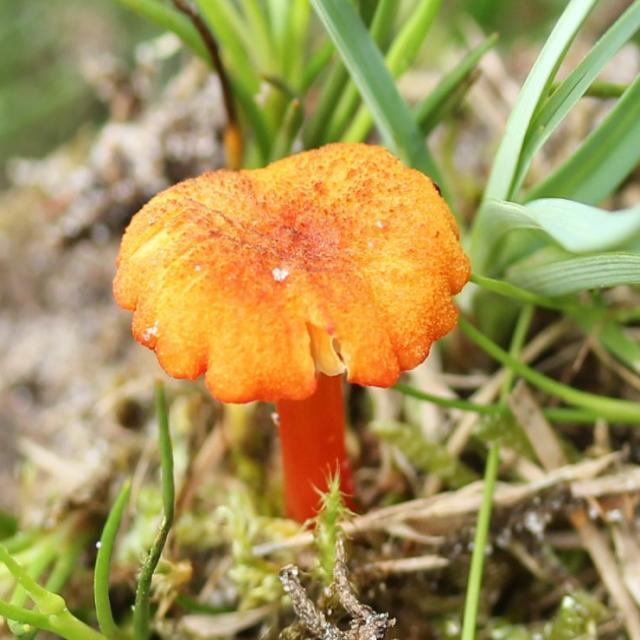Cantharellus cibarius: (117, 143, 471, 529)
